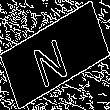N_NW: (34, 24, 76, 86)
